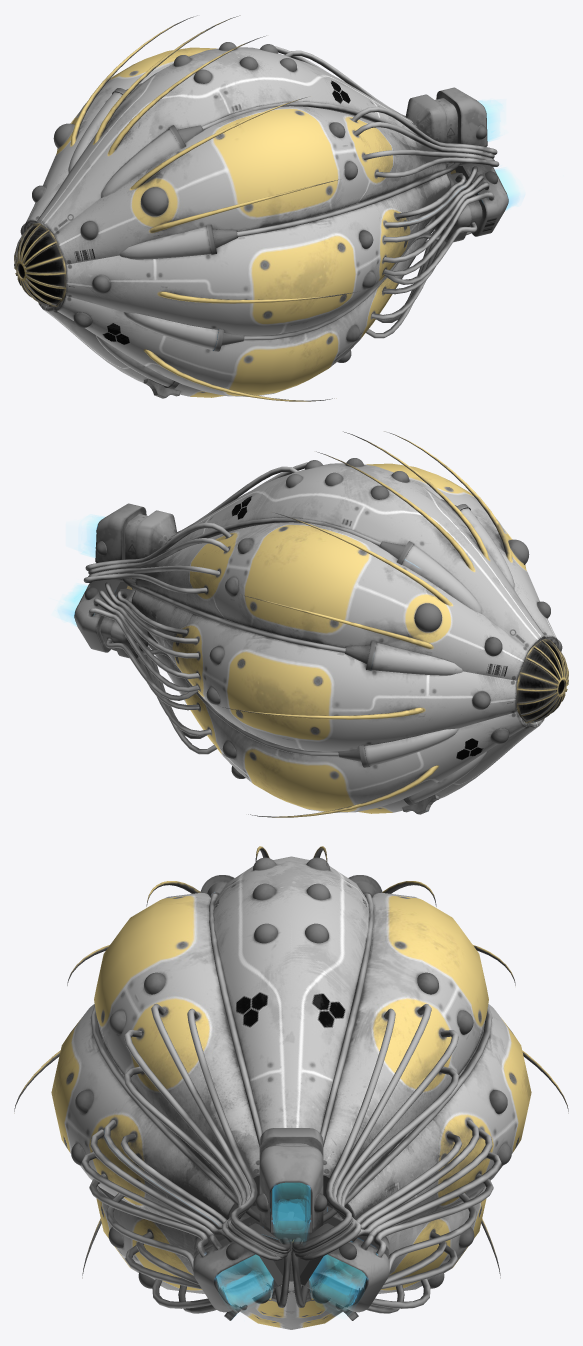
Rendered from sci-fi_personal_space_pod_shipweekly_challenge.glb.
3 renders of one model, top to bottom at view 1: azimuth 30°, elevation 25°; view 2: azimuth 150°, elevation 25°; view 3: azimuth 270°, elevation 25°, orthographic. The views are drawn at different scales.
Bounding box in the file's own units: 1.83 × 1.18 × 1.27.
Materials: 2 (2 with a texture image).
